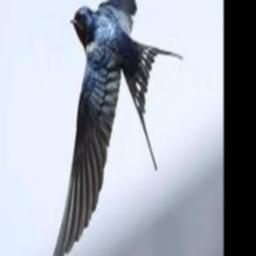Swallow: (48, 0, 183, 256)
